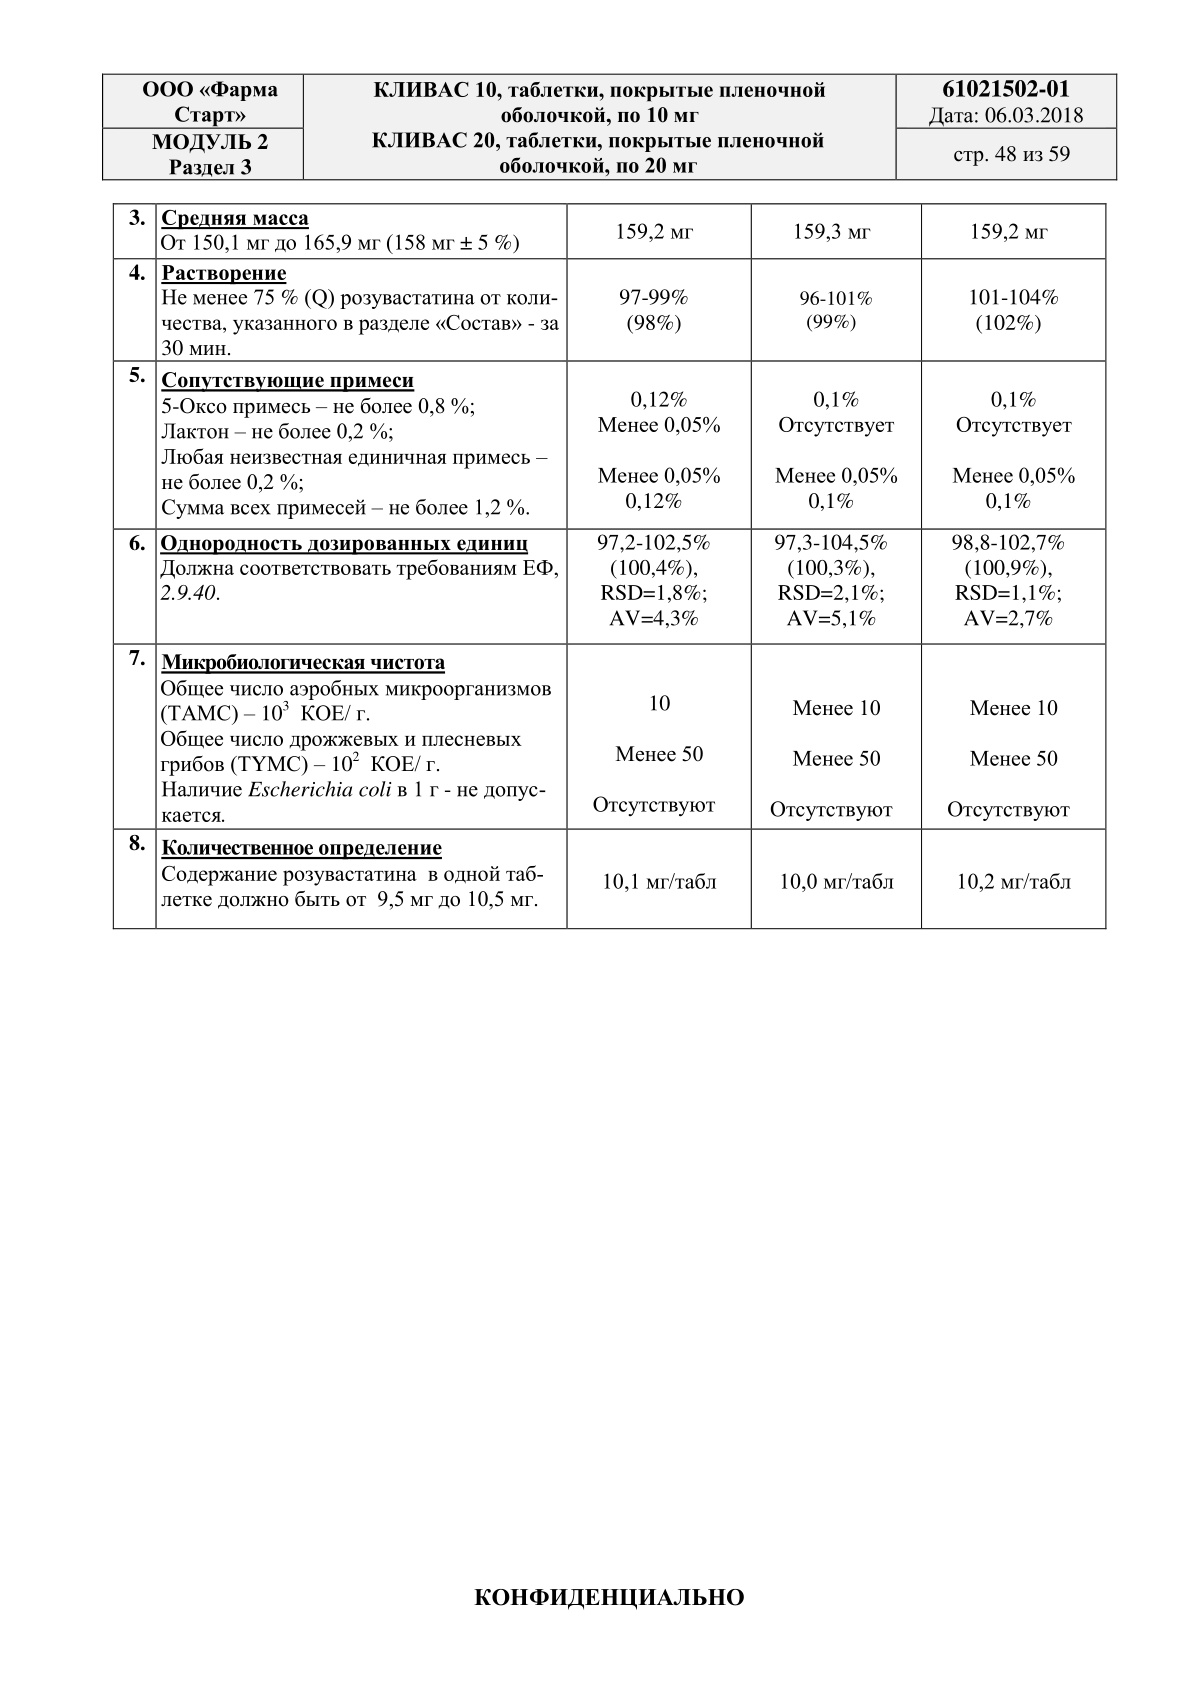full_lined: (112, 202, 1107, 930)
merged_cells: (102, 72, 1118, 180)
